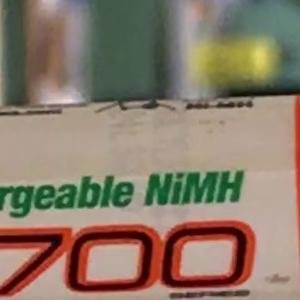NIMH: (134, 161, 254, 216)
